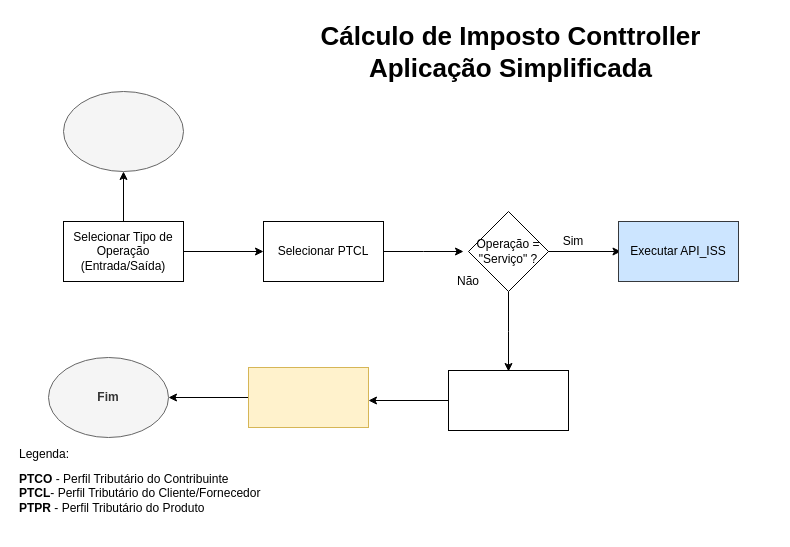
Some shapes in this 790 by 547 pixel diagram are drawn without their labels. The centre of each missing label's shape, as x and y in pixels:
Executar API Regimre Tributario Imposto: point (308, 397)
Inicio: point (123, 131)
Selecionar PTPR: point (508, 400)
